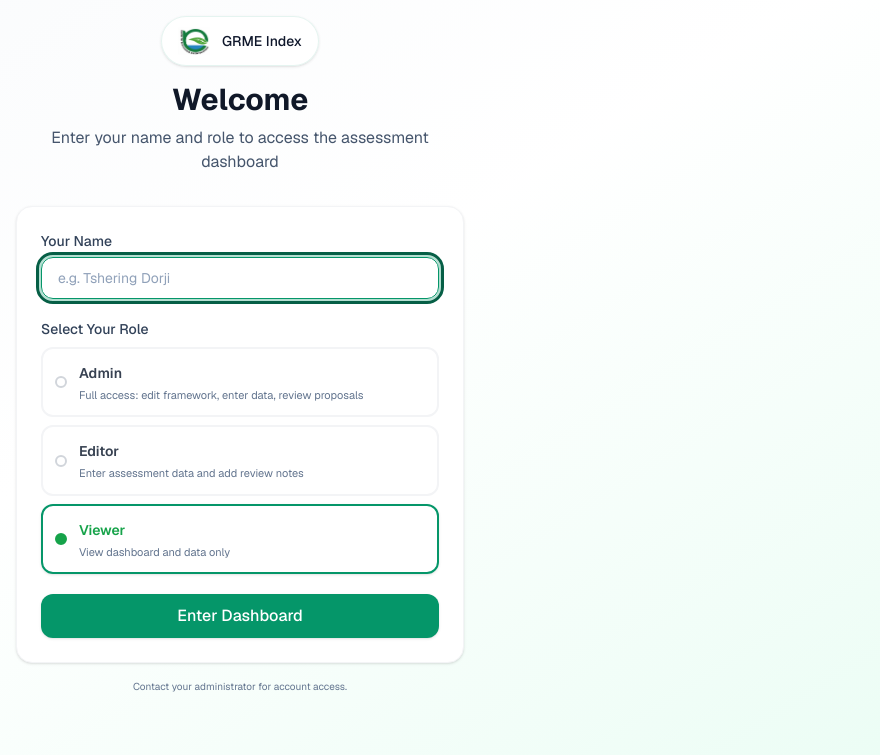
Test: LoginScreen › shows matched user info when name matches a managed user
Type "Alice" into the field with placeholder "e.g. Tshering Dorji". click: (240, 278)
box: [41, 257, 439, 299]
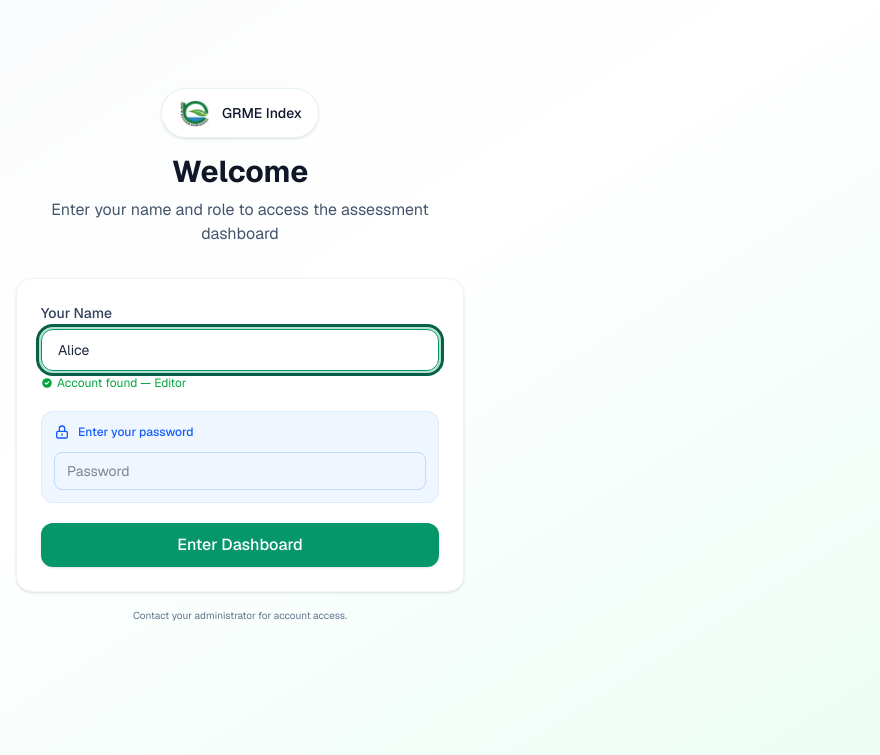
Check: the text "Account found — Editor" is shown, box [41, 374, 186, 390]
